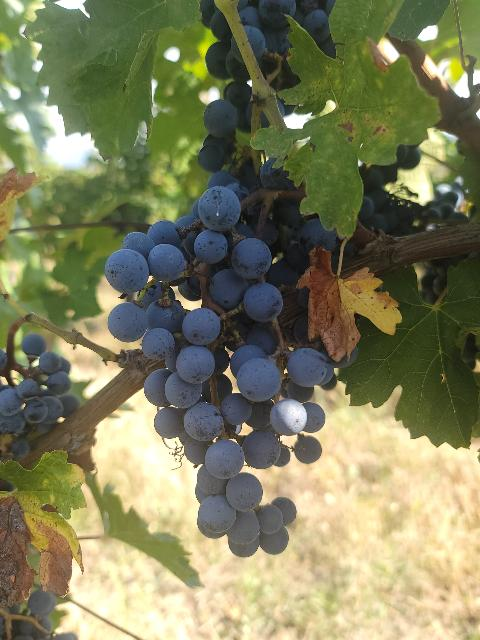grapes: (105, 185, 331, 556), (0, 334, 80, 459), (238, 0, 335, 89), (202, 10, 252, 155), (0, 349, 9, 371)
